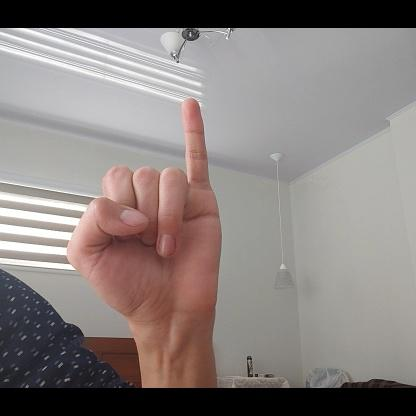I: (67, 98, 222, 315)
